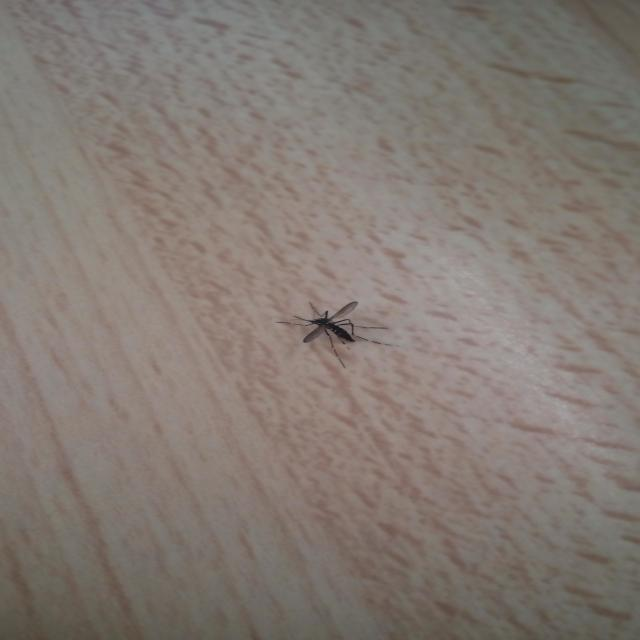albopictus: (269, 293, 400, 367)
